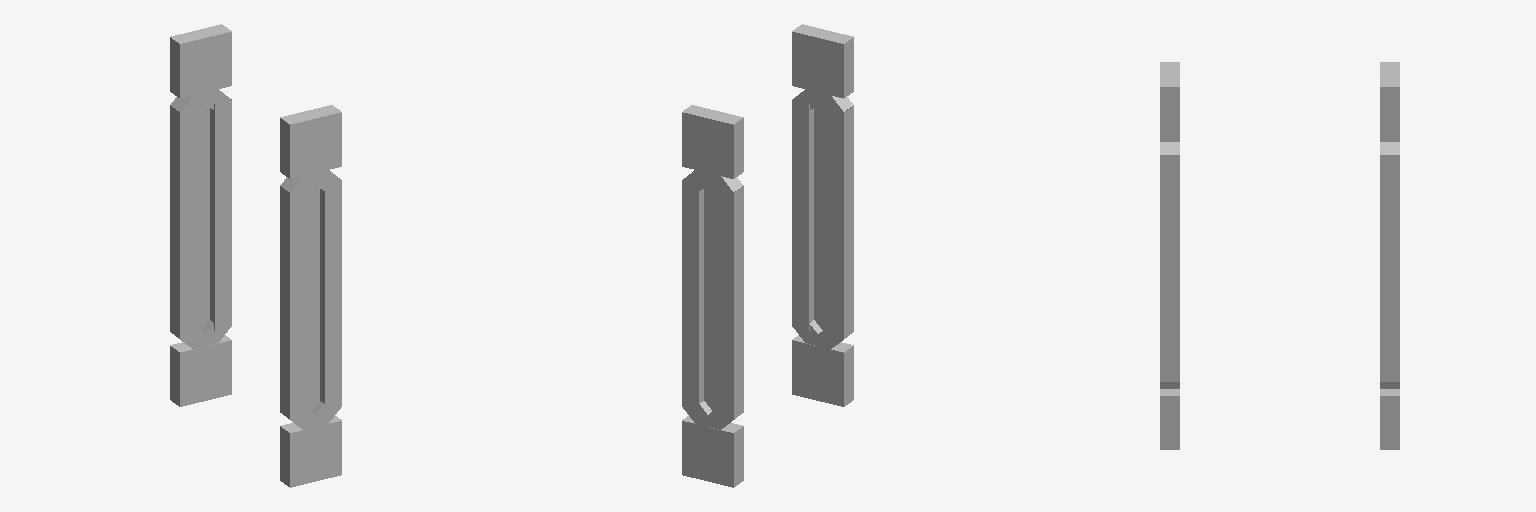
File: large_rod.obj
3 views of the same model, side by side, from view 1: azimuth 30°, elevation 25°; view 2: azimuth 150°, elevation 25°; view 3: azimuth 270°, elevation 25° (orthographic).
Parts seen in each view (by area): view 1: cube.017; view 2: cube.017; view 3: cube.017.
Boxes of the visible parts, box(x1,y1,x2,y2) form: cube.017: box(170, 24, 341, 487); cube.017: box(682, 24, 853, 487); cube.017: box(1160, 62, 1399, 449).
Size of the model in its own units: 0.3756 by 2.5 by 1.5.